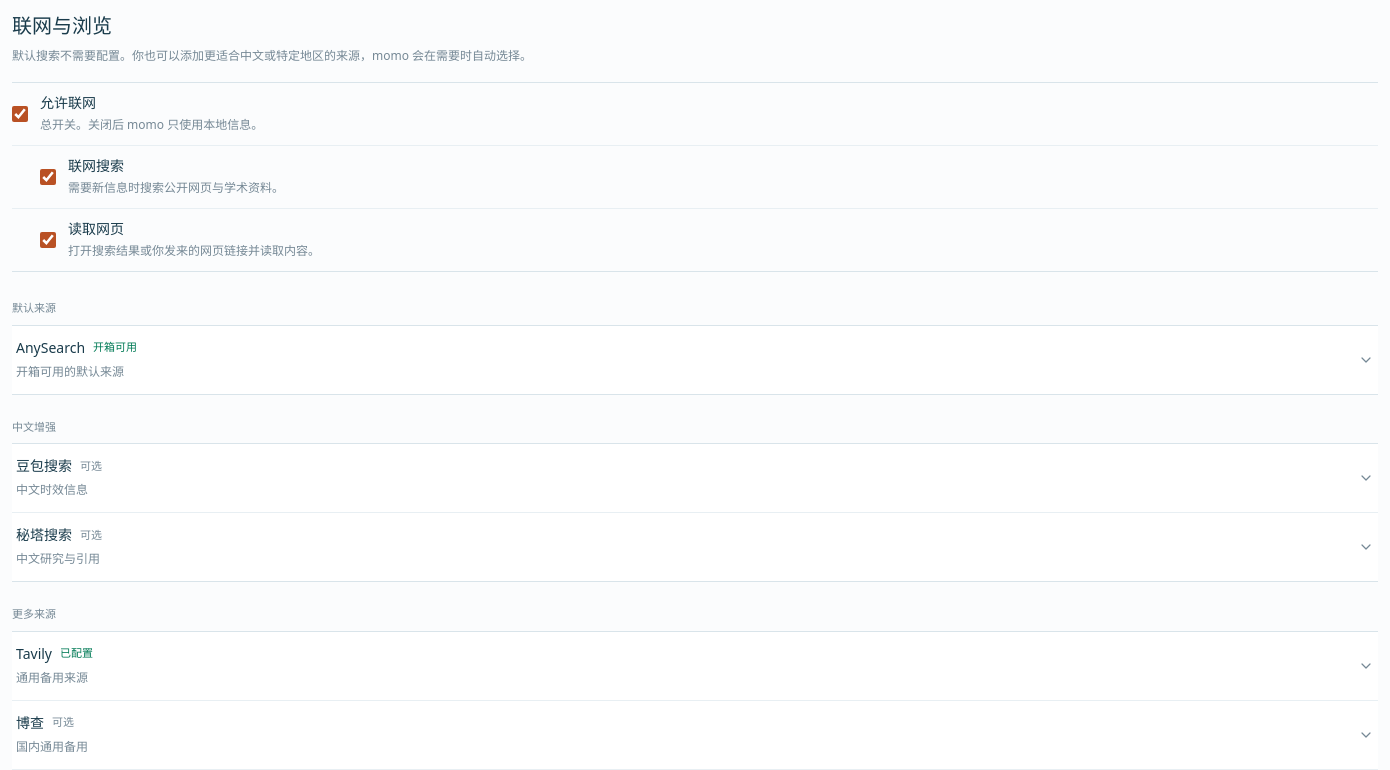
Test: SearchSourcesSection — source journey › 保存失败保留草稿并显示真实原因
Check: the text "豆包搜索" is shown, box [16,456,72,476]
Click the button with aria-label "配置 豆包搜索": x=44, y=466 [12,444,1378,512]
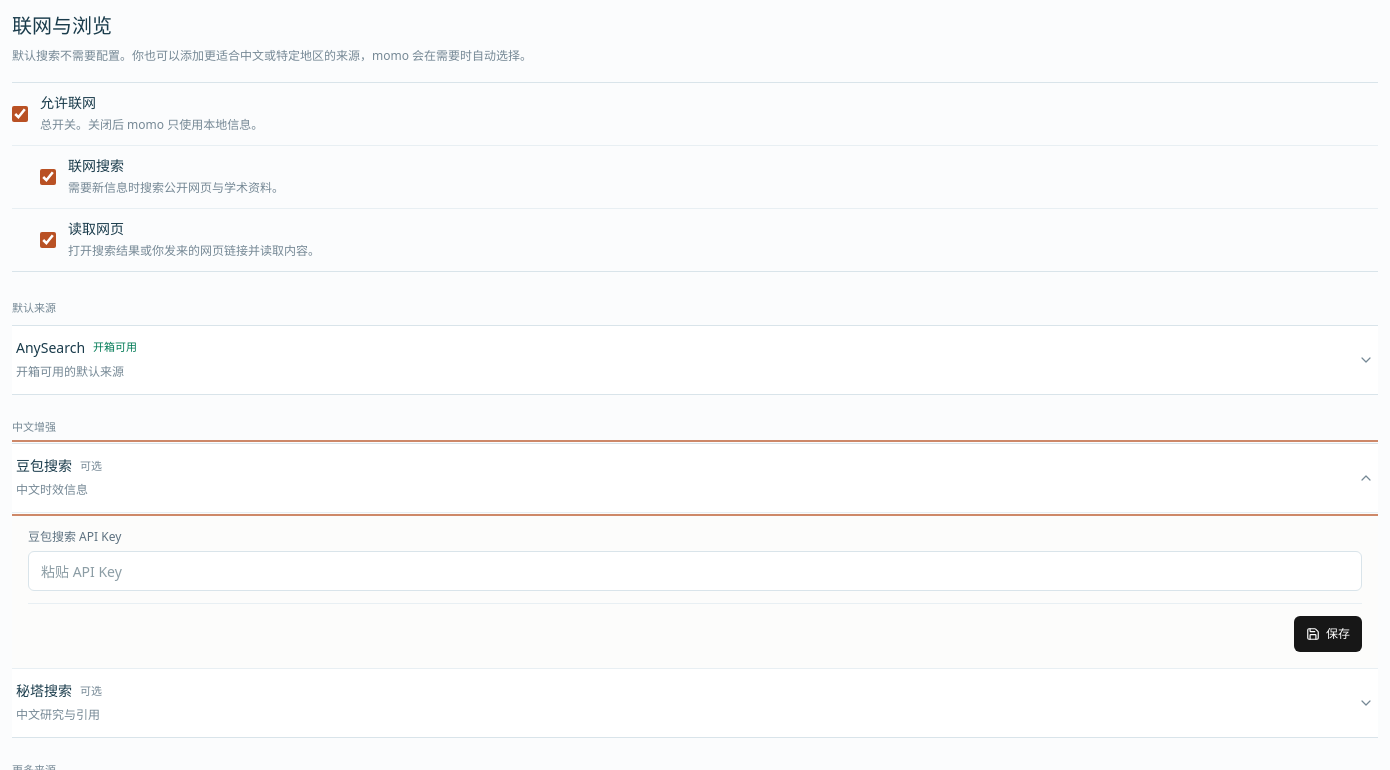
In the password field labelled "豆包搜索 API Key": x=695, y=571 [28,551,1362,591], type "doubao-key"
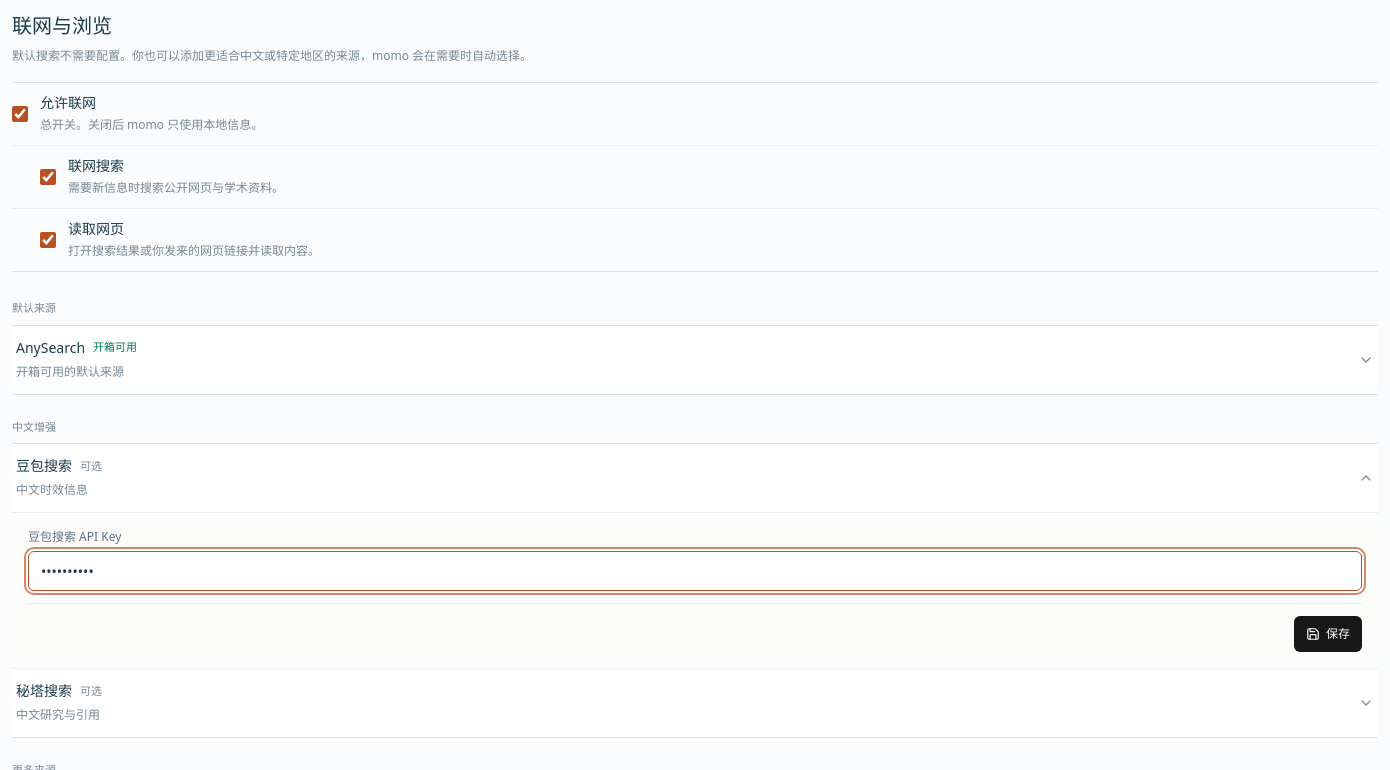
Click the button with aria-label "保存 豆包搜索": x=1328, y=634 [1294,616,1362,652]
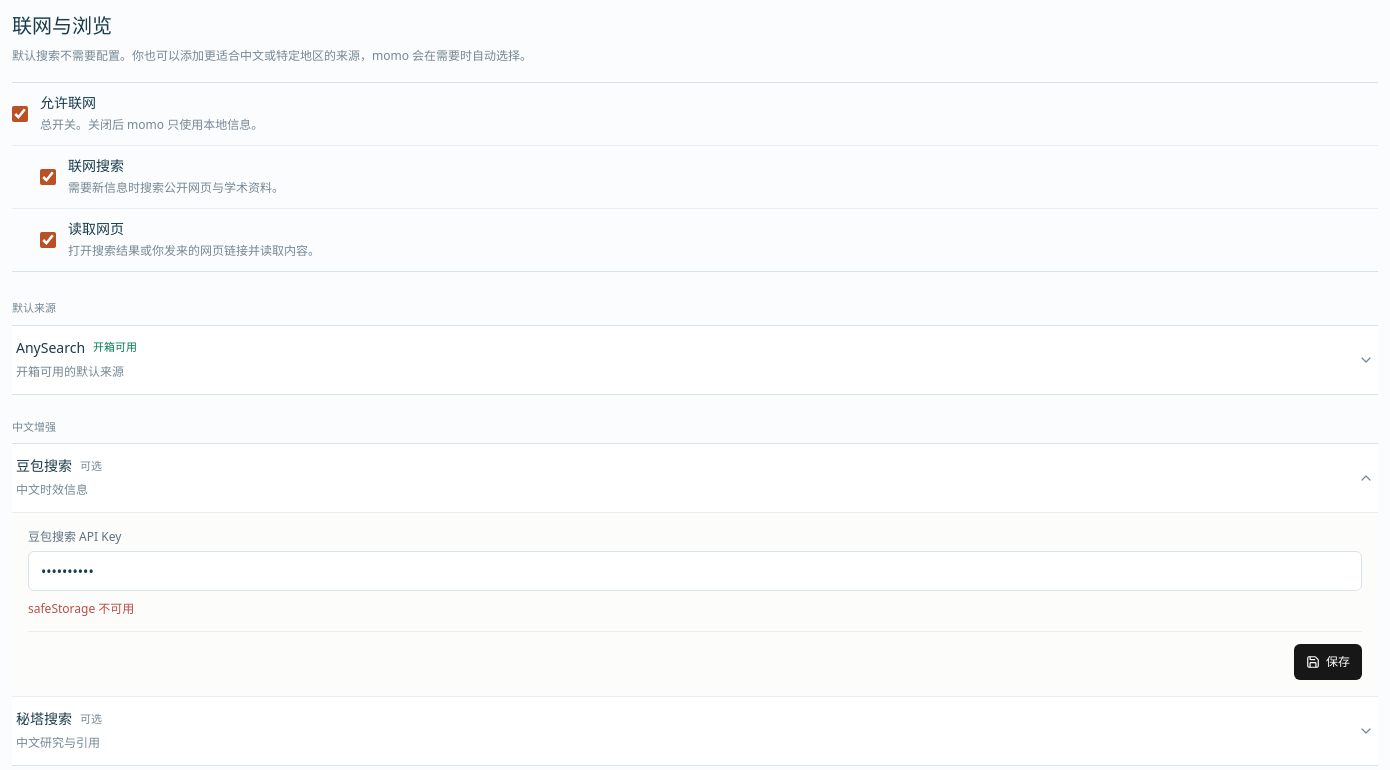
Check: the message reads "safeStorage 不可用", box [28,600,134,617]
